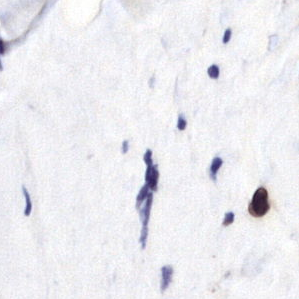Lymphocyte: (250, 187, 273, 218)
